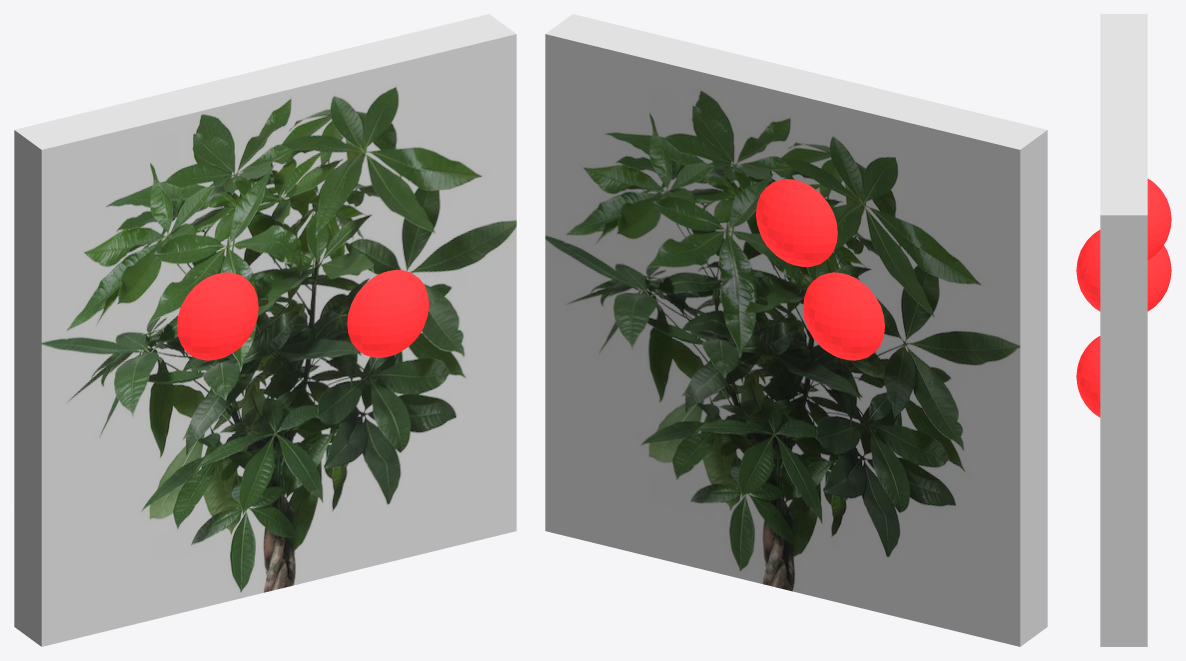
File: tomato_6.dae
The picture shows the model from 3 angles, left to right: view 1: azimuth 30°, elevation 25°; view 2: azimuth 150°, elevation 25°; view 3: azimuth 270°, elevation 25°; orthographic projection. The views are drawn at different scales.
Visible parts, largest first — view 1: Cube, Sphere.002, Sphere; view 2: Cube, Sphere.002, Sphere.003; view 3: Cube, Sphere.002, Sphere, Sphere.003.
Boxes of the visible parts, bbox=[...] form: Cube: bbox=[14, 14, 516, 646]; Sphere.002: bbox=[177, 272, 258, 360]; Sphere: bbox=[347, 270, 428, 357]; Cube: bbox=[545, 14, 1047, 646]; Sphere.002: bbox=[803, 272, 884, 360]; Sphere.003: bbox=[756, 179, 837, 267]; Cube: bbox=[1100, 14, 1147, 646]; Sphere.002: bbox=[1076, 230, 1171, 311]; Sphere: bbox=[1076, 336, 1100, 417]; Sphere.003: bbox=[1147, 179, 1171, 260].
Size of the model in its own units: 1 by 0.2 by 1.
Materials: 4 (1 with a texture image).
